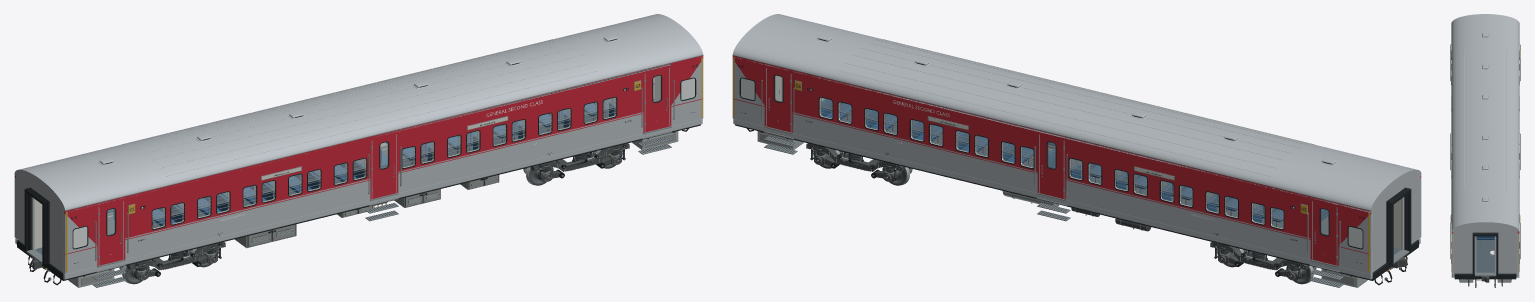
File: LHB_GS.fbx
3 views of the same model, side by side, from view 1: azimuth 30°, elevation 25°; view 2: azimuth 150°, elevation 25°; view 3: azimuth 270°, elevation 25° (orthographic). The views are drawn at different scales.
Parts seen in each view (by area): view 1: ROOF_arch, BODYSIDE_sill.001, BODYSIDE_sill.002, BODYSIDE_header.001, BODYSIDE_header.002, UNDERFRAME_edge, UNDERFRAME_main, INTERIOR_floor, ROOF_rain_gutter, END_wall, END_wall.001, BODYSIDE_sill (+13 smaller); view 2: ROOF_arch, BODYSIDE_sill.006, BODYSIDE_sill.005, BODYSIDE_header.005, BODYSIDE_header.006, UNDERFRAME_edge.001, UNDERFRAME_main, INTERIOR_floor, END_wall.001, ROOF_rain_gutter.001, END_wall, BODYSIDE_sill.004 (+13 smaller); view 3: ROOF_arch, END_wall.003, END_wall.002, INTERIOR_floor, UNDERFRAME_main, ROOF_rain_gutter, ROOF_rain_gutter.001, ROOF_longitudinal_seam, ROOF_longitudinal_seam.001, ROOF_longitudinal_seam.005, ROOF_longitudinal_seam.006, GANGWAY_bellows_side.018 (+4 smaller).
Part boxes in pixels (bbox=[...]): ROOF_arch: bbox=[14, 14, 702, 212]; BODYSIDE_sill.001: bbox=[125, 179, 370, 259]; BODYSIDE_sill.002: bbox=[398, 112, 643, 192]; BODYSIDE_header.001: bbox=[125, 137, 370, 214]; BODYSIDE_header.002: bbox=[398, 70, 643, 147]; UNDERFRAME_edge: bbox=[63, 119, 702, 279]; UNDERFRAME_main: bbox=[17, 124, 700, 280]; INTERIOR_floor: bbox=[35, 98, 654, 254]; ROOF_rain_gutter: bbox=[65, 54, 703, 210]; END_wall: bbox=[49, 202, 63, 272]; END_wall.001: bbox=[15, 177, 34, 250]; BODYSIDE_sill: bbox=[64, 245, 97, 274]; ROOF_arch: bbox=[733, 14, 1421, 212]; BODYSIDE_sill.006: bbox=[792, 112, 1037, 192]; BODYSIDE_sill.005: bbox=[1065, 179, 1310, 259]; BODYSIDE_header.005: bbox=[1065, 137, 1310, 214]; BODYSIDE_header.006: bbox=[792, 70, 1037, 147]; UNDERFRAME_edge.001: bbox=[733, 119, 1372, 279]; UNDERFRAME_main: bbox=[735, 124, 1418, 280]; INTERIOR_floor: bbox=[781, 98, 1400, 254]; END_wall.001: bbox=[1371, 200, 1386, 272]; ROOF_rain_gutter.001: bbox=[732, 54, 1370, 210]; END_wall: bbox=[1401, 177, 1419, 250]; BODYSIDE_sill.004: bbox=[1338, 245, 1371, 274]; ROOF_arch: bbox=[1451, 14, 1519, 232]; END_wall.003: bbox=[1494, 231, 1517, 273]; END_wall.002: bbox=[1453, 231, 1476, 273]; INTERIOR_floor: bbox=[1455, 236, 1515, 273]; UNDERFRAME_main: bbox=[1454, 274, 1516, 279]; ROOF_rain_gutter: bbox=[1451, 23, 1451, 230]; ROOF_rain_gutter.001: bbox=[1519, 23, 1519, 230]; ROOF_longitudinal_seam: bbox=[1456, 52, 1456, 192]; ROOF_longitudinal_seam.001: bbox=[1464, 50, 1464, 190]; ROOF_longitudinal_seam.005: bbox=[1506, 50, 1506, 190]; ROOF_longitudinal_seam.006: bbox=[1514, 52, 1514, 192]; GANGWAY_bellows_side.018: bbox=[1472, 235, 1474, 275].
Bounding box in the file's own units: 336 × 2416 × 415.
